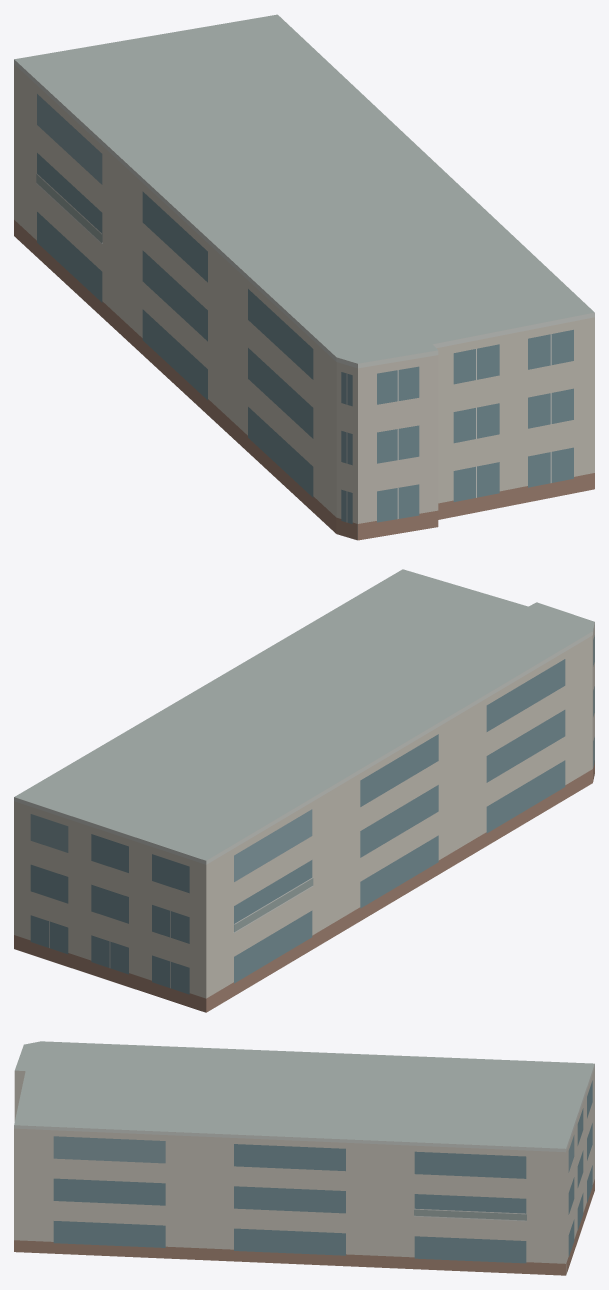
File: survey-upis-32499035.glb
3 views of the same model, one above another, from view 1: azimuth 30°, elevation 25°; view 2: azimuth 150°, elevation 25°; view 3: azimuth 270°, elevation 25° (orthographic). The views are drawn at different scales.
Parts seen in each view (by area): view 1: survey-upis-32499035.tmp; view 2: survey-upis-32499035.tmp; view 3: survey-upis-32499035.tmp.
Boxes of the visible parts, bbox=[...] form: survey-upis-32499035.tmp: bbox=[14, 14, 594, 540]; survey-upis-32499035.tmp: bbox=[14, 569, 594, 1012]; survey-upis-32499035.tmp: bbox=[14, 1041, 594, 1275].
Size of the model in its own units: 16.65 by 9.15 by 37.99.
